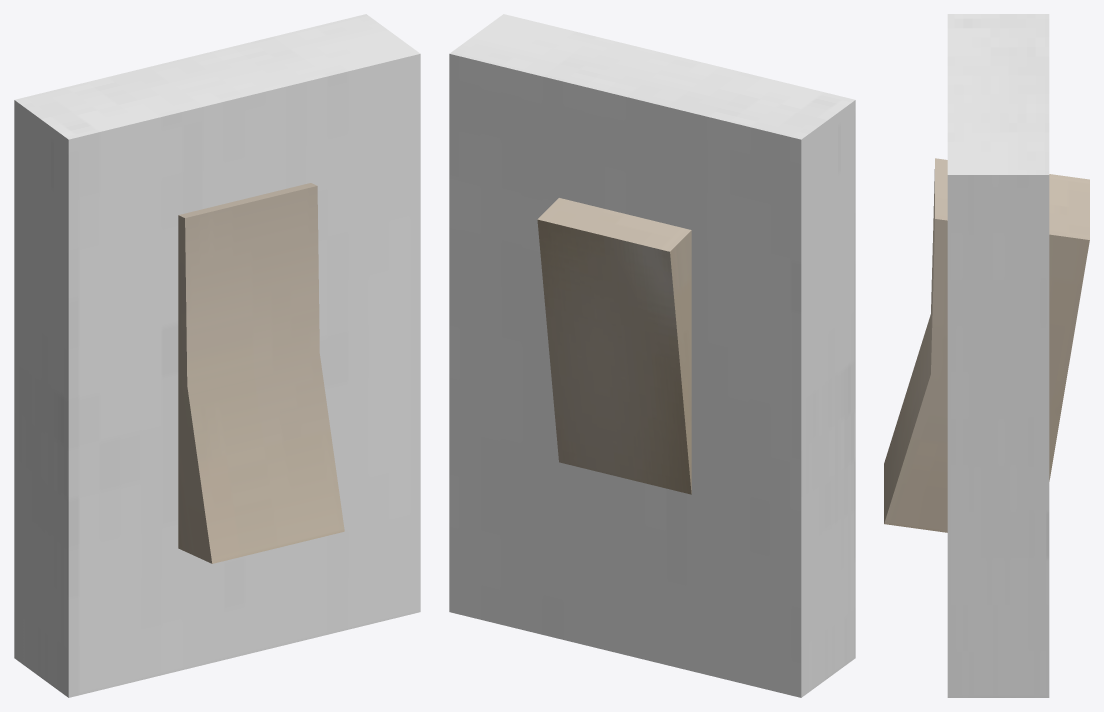
File: LightSwitch.fbx
3 renders of one model, left to right at view 1: azimuth 30°, elevation 25°; view 2: azimuth 150°, elevation 25°; view 3: azimuth 270°, elevation 25°, orthographic. The views are drawn at different scales.
Visible parts, largest first — view 1: LightSwitchBody, LightSwitchButton; view 2: LightSwitchBody, LightSwitchButton; view 3: LightSwitchBody, LightSwitchButton.
Boxes of the visible parts, <box> form: LightSwitchBody: <box>14,14,420,697</box>; LightSwitchButton: <box>178,183,344,563</box>; LightSwitchBody: <box>449,14,855,697</box>; LightSwitchButton: <box>537,198,691,494</box>; LightSwitchBody: <box>947,14,1049,697</box>; LightSwitchButton: <box>884,158,1089,532</box>.
Bounding box in the file's own units: 0.3153 × 0.478 × 0.1704.
Materials: 2 (2 with a texture image).
